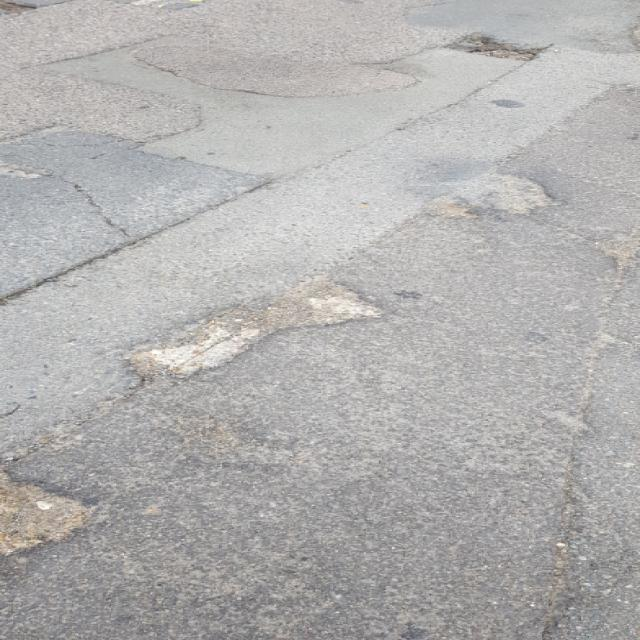Pothole: (107, 269, 396, 383), (1, 469, 102, 562), (417, 165, 566, 225), (440, 31, 551, 66)
